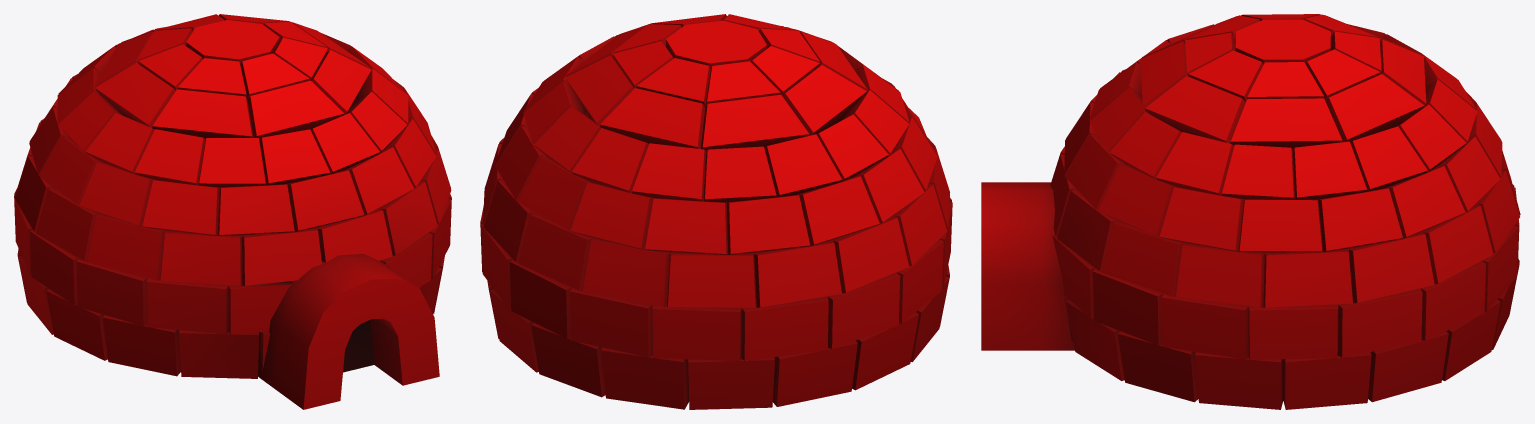
The model's file is buildings-residential-igloo_v1.fbx.
3 renders of one model, left to right at view 1: azimuth 30°, elevation 25°; view 2: azimuth 150°, elevation 25°; view 3: azimuth 270°, elevation 25°, orthographic. The views are drawn at different scales.
Visible parts, largest first — view 1: Igloo.001; view 2: Igloo.001; view 3: Igloo.001.
Boxes of the visible parts, x1,y1,x2,y2 form: Igloo.001: (14, 14, 451, 409); Igloo.001: (480, 14, 952, 409); Igloo.001: (981, 14, 1520, 409).
Bounding box in the file's own units: 6.91 × 4.41 × 7.85.
